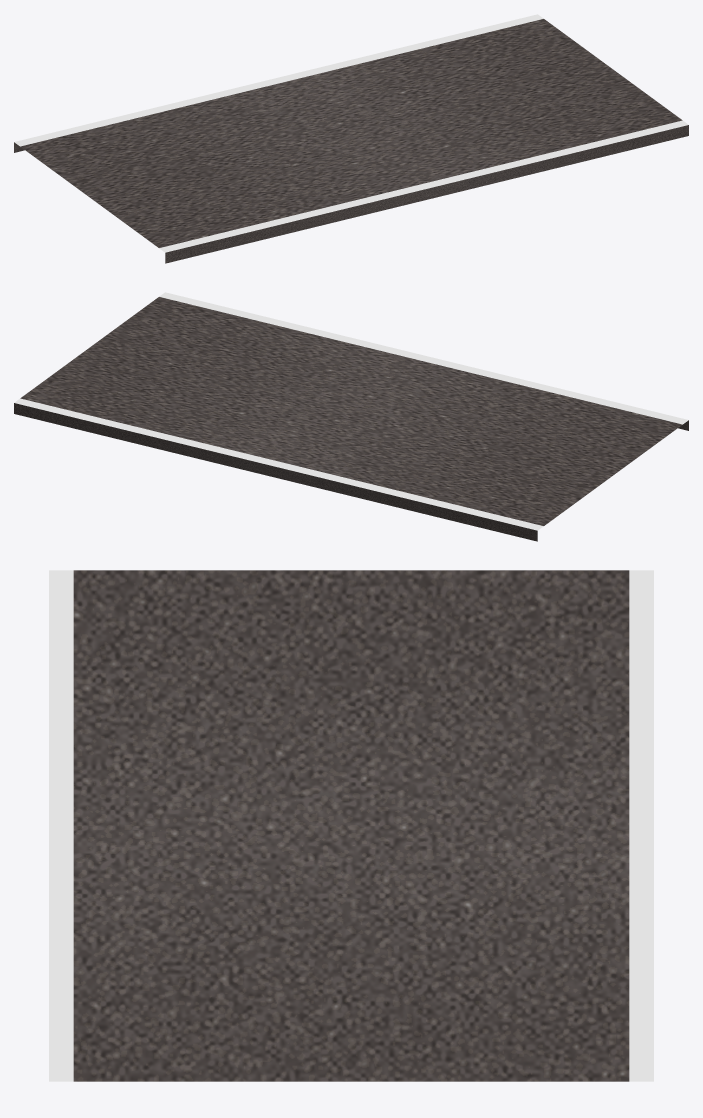
File: Hello Neighbor Road.fbx
3 renders of one model, top to bottom at view 1: azimuth 30°, elevation 25°; view 2: azimuth 150°, elevation 25°; view 3: azimuth 270°, elevation 25°, orthographic. The views are drawn at different scales.
Parts seen in each view (by area): view 1: Box002; view 2: Box002; view 3: Box002.
Boxes of the visible parts, bbox=[...] form: Box002: bbox=[14, 14, 688, 263]; Box002: bbox=[14, 292, 688, 541]; Box002: bbox=[49, 570, 653, 1081].
Size of the model in its own units: 2.54 by 0.0508 by 1.27.
2 materials, 1 textured.
